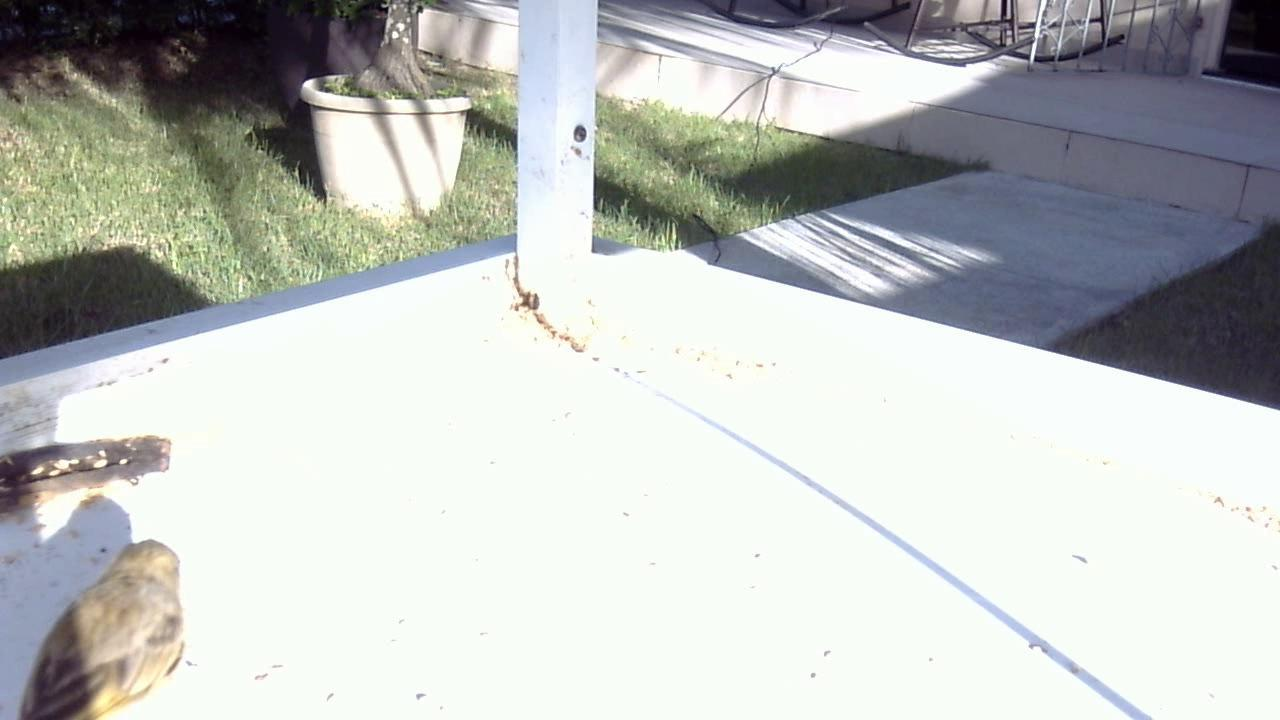canario_do_amazonas: (12, 530, 195, 716)
